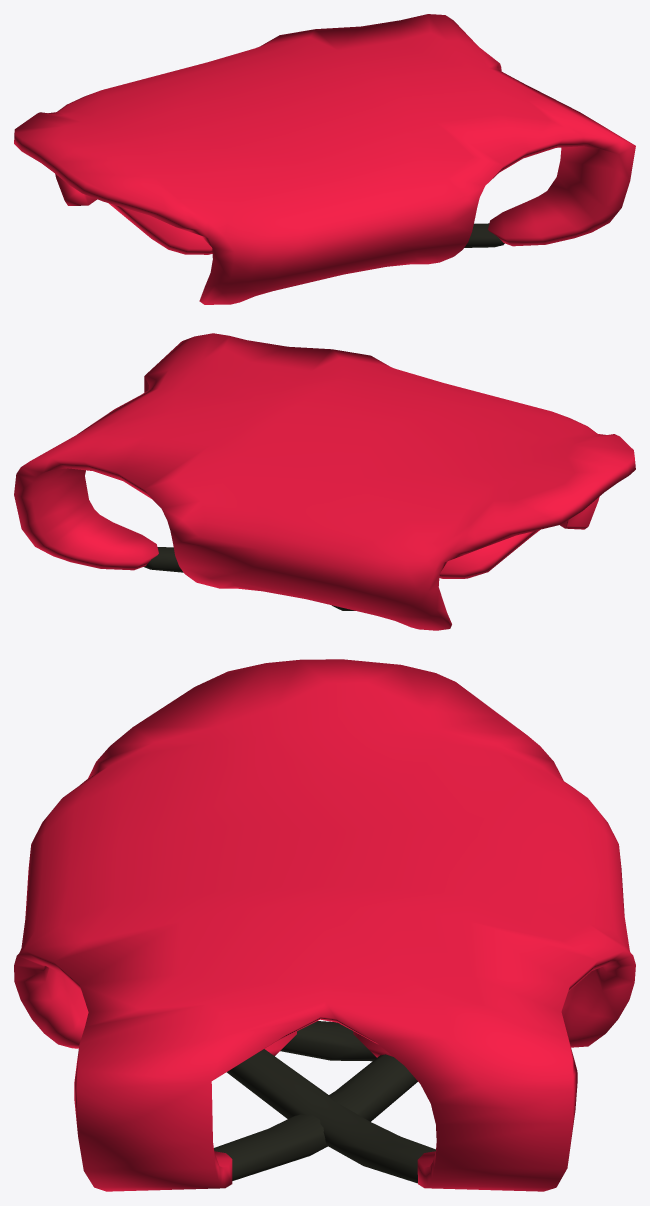
Rendered from armor.fbx.
The picture shows the model from 3 angles, top to bottom: view 1: azimuth 30°, elevation 25°; view 2: azimuth 150°, elevation 25°; view 3: azimuth 270°, elevation 25°; orthographic projection. The views are drawn at different scales.
Visible parts, largest first — view 1: Plane.059; view 2: Plane.059; view 3: Plane.059.
Part boxes in pixels (x1,y1,x2,y2): Plane.059: [14, 14, 635, 304]; Plane.059: [14, 333, 635, 630]; Plane.059: [14, 659, 635, 1191].
Size of the model in its own units: 53.82 by 17.22 by 39.42.
